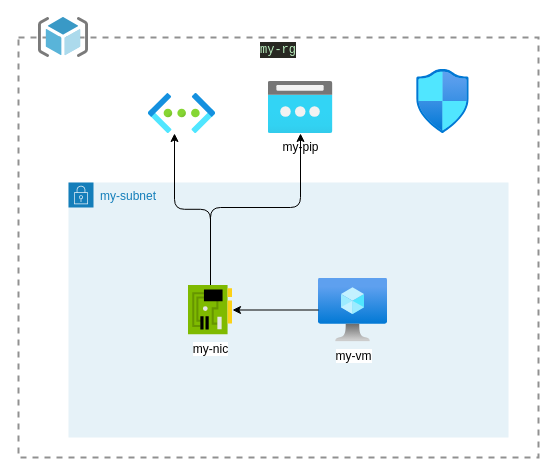
The diagram is 556 pixels wide and 475 high, and some of its shapes have lost their labels. The shapes that lost their labels are listed below. From the top down, each one's box as (x1, y1, x2, y2) in pixels, then its label:
(148, 93, 215, 133): my-vnet
(416, 69, 469, 133): my-nsg
